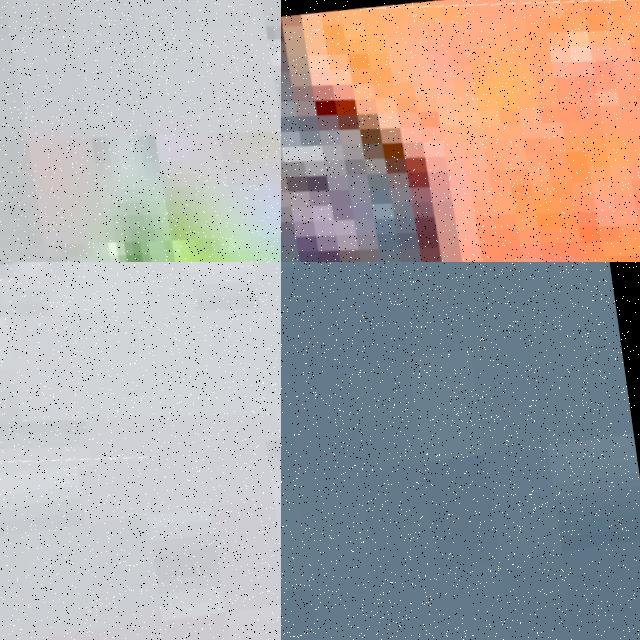0: (0, 0, 281, 262), (0, 262, 281, 500)
drone: (281, 0, 640, 262)
